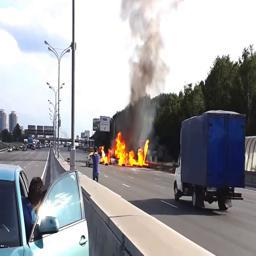fire: (101, 131, 151, 166)
